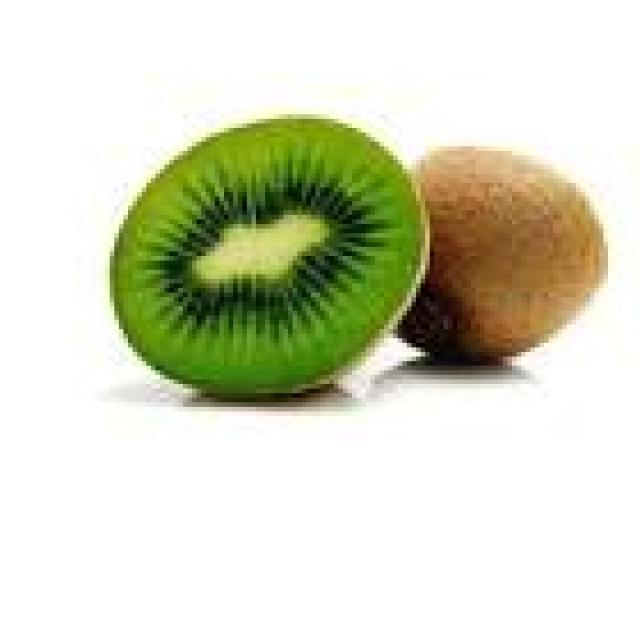kivi: (111, 116, 428, 398), (399, 148, 606, 362)
